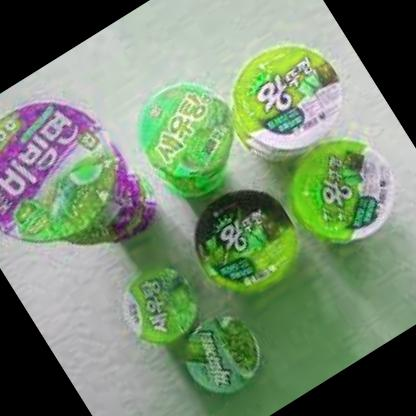Ramen: (0, 81, 136, 263), (264, 119, 416, 269), (171, 168, 322, 317), (214, 18, 362, 168), (121, 63, 254, 200), (104, 249, 216, 358), (173, 296, 283, 402)
